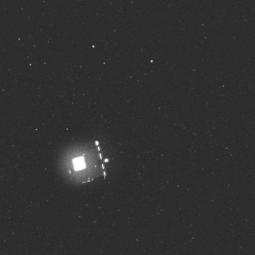proba_3_ocs: (53, 127, 116, 197)
